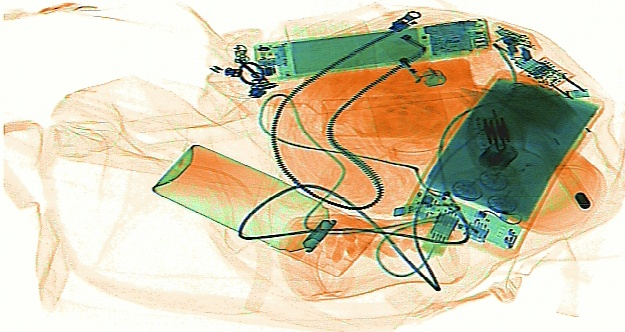lighter: (374, 22, 447, 87)
pressure: (151, 141, 381, 277)
